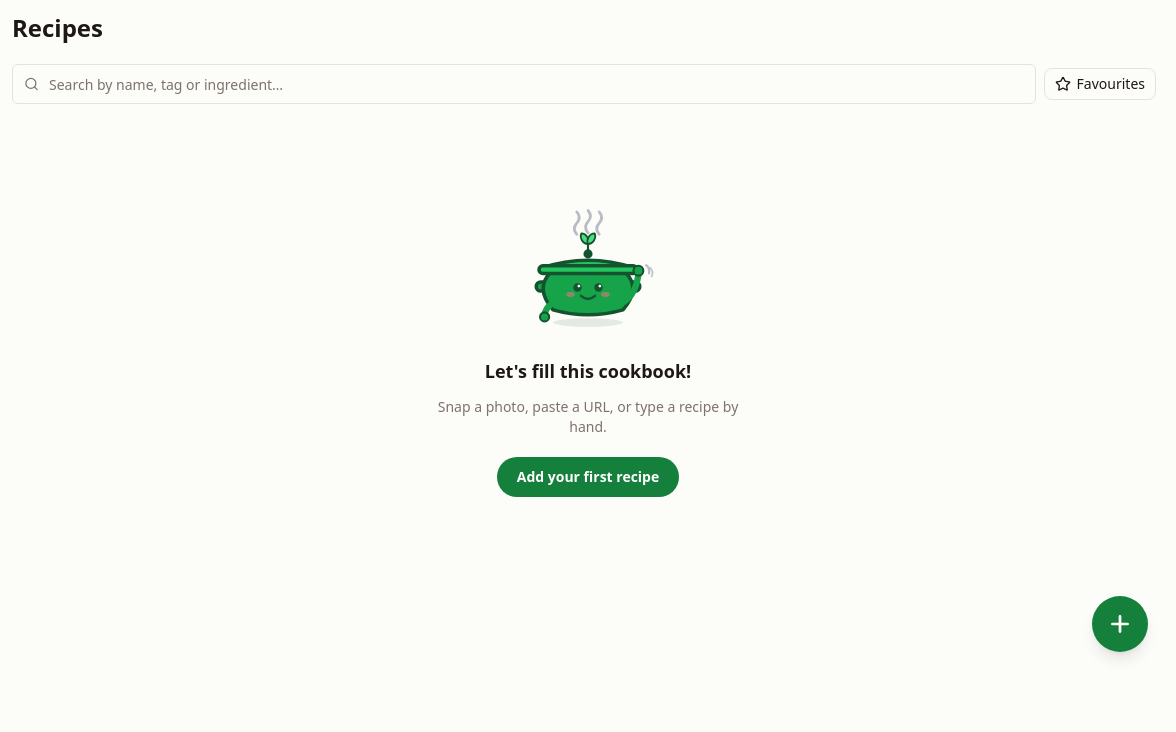
it: RecipesPage › shows Cancel button when search input is focused and clears search on click
The image size is (1176, 732).
Click the field with placeholder "Search by name, tag or ingredient…" at (524, 84), box left=12, top=64, right=1036, bottom=104
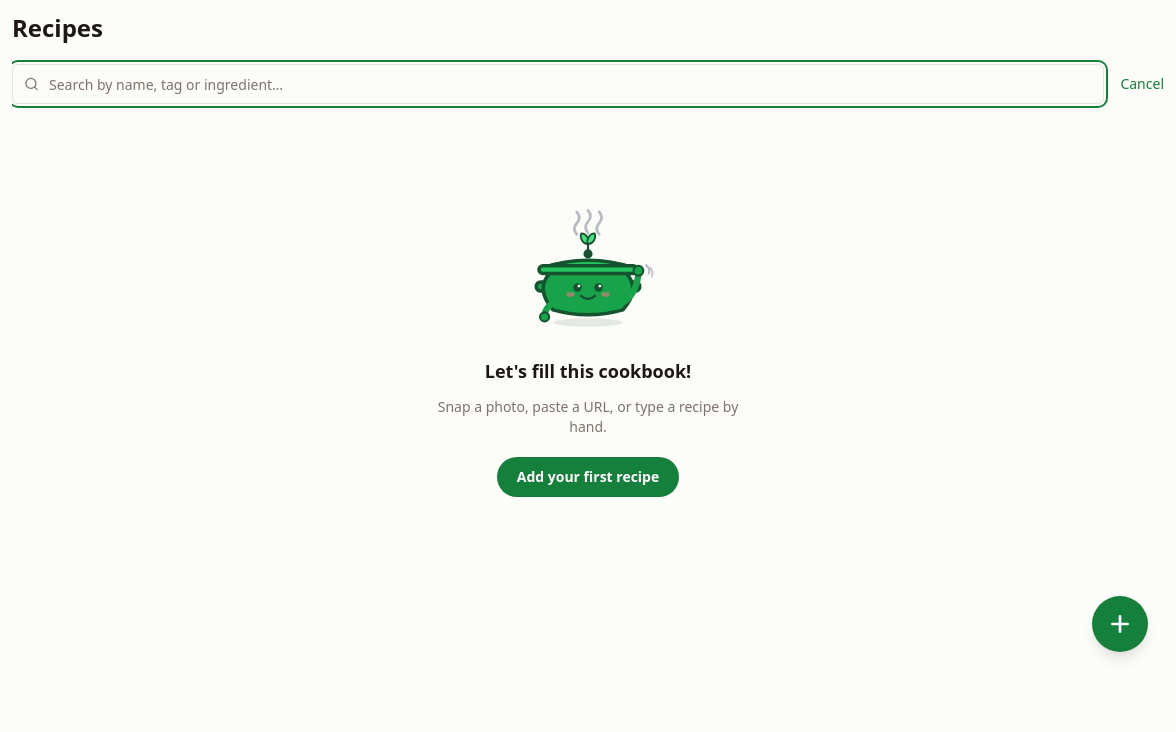
Type "pasta" into the field with placeholder "Search by name, tag or ingredient…" at (558, 84), box left=12, top=64, right=1104, bottom=104
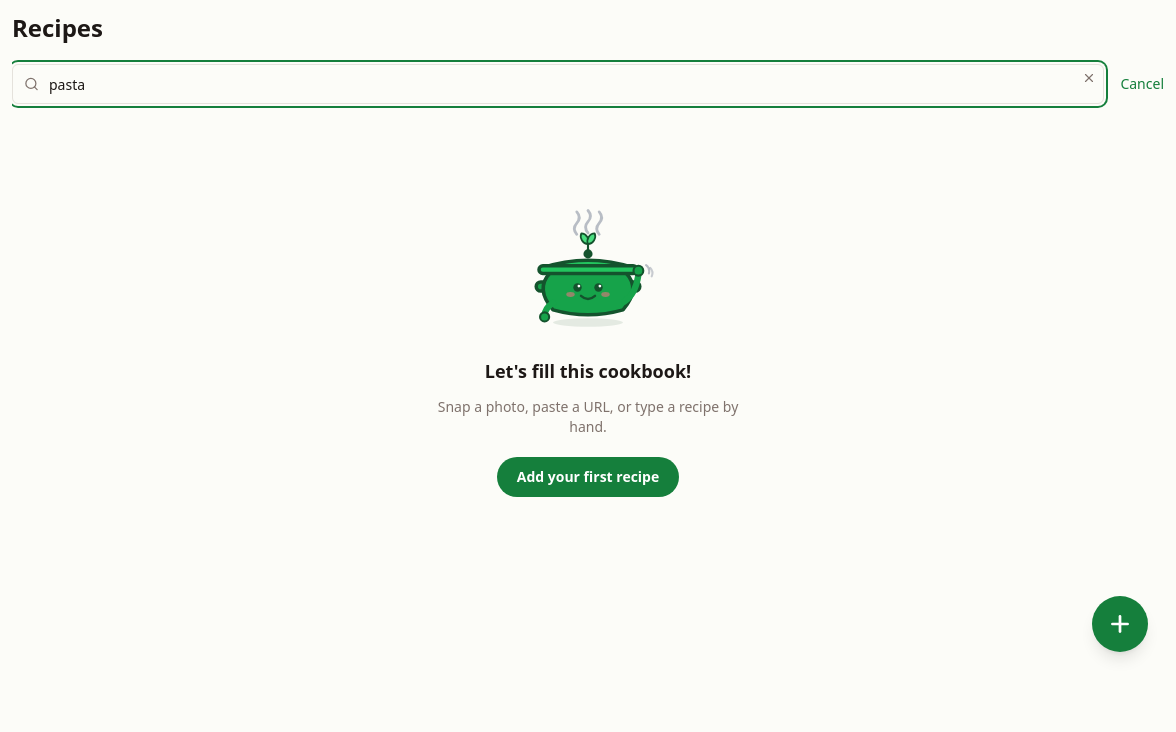
Click the button "Cancel" at (1142, 84), box left=1120, top=74, right=1164, bottom=94
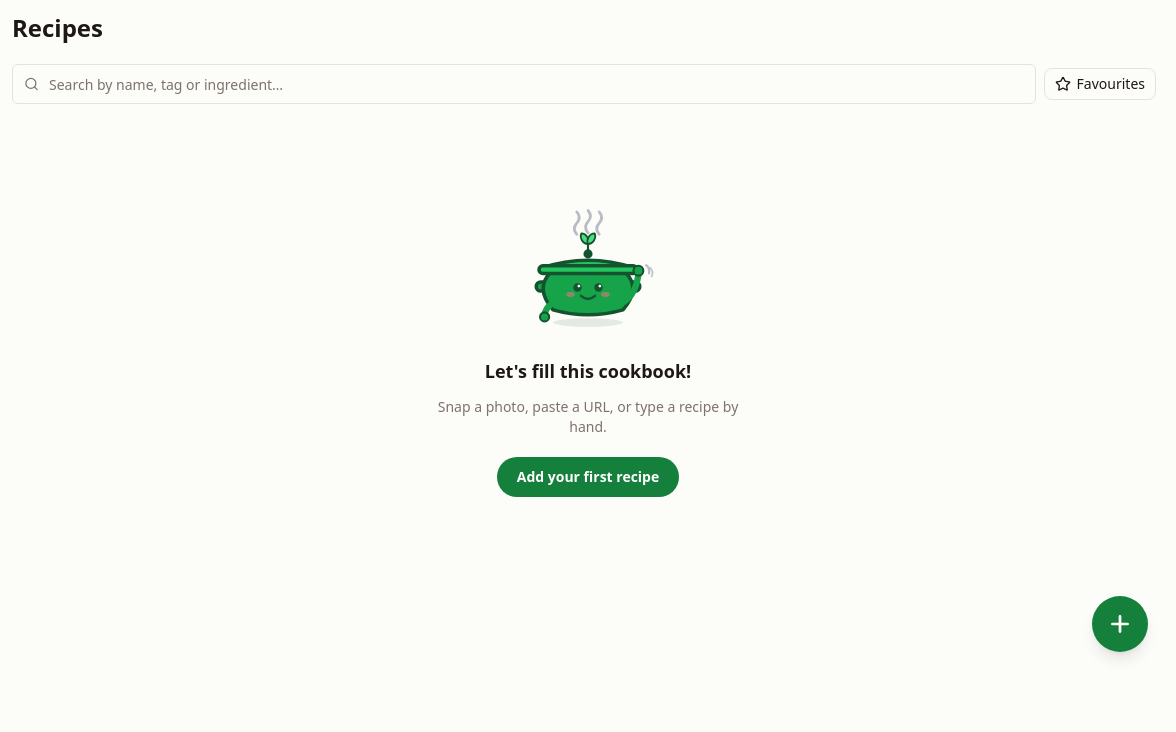
Expected: the field with placeholder "Search by name, tag or ingredient…" is empty, left=12, top=64, right=1036, bottom=104
